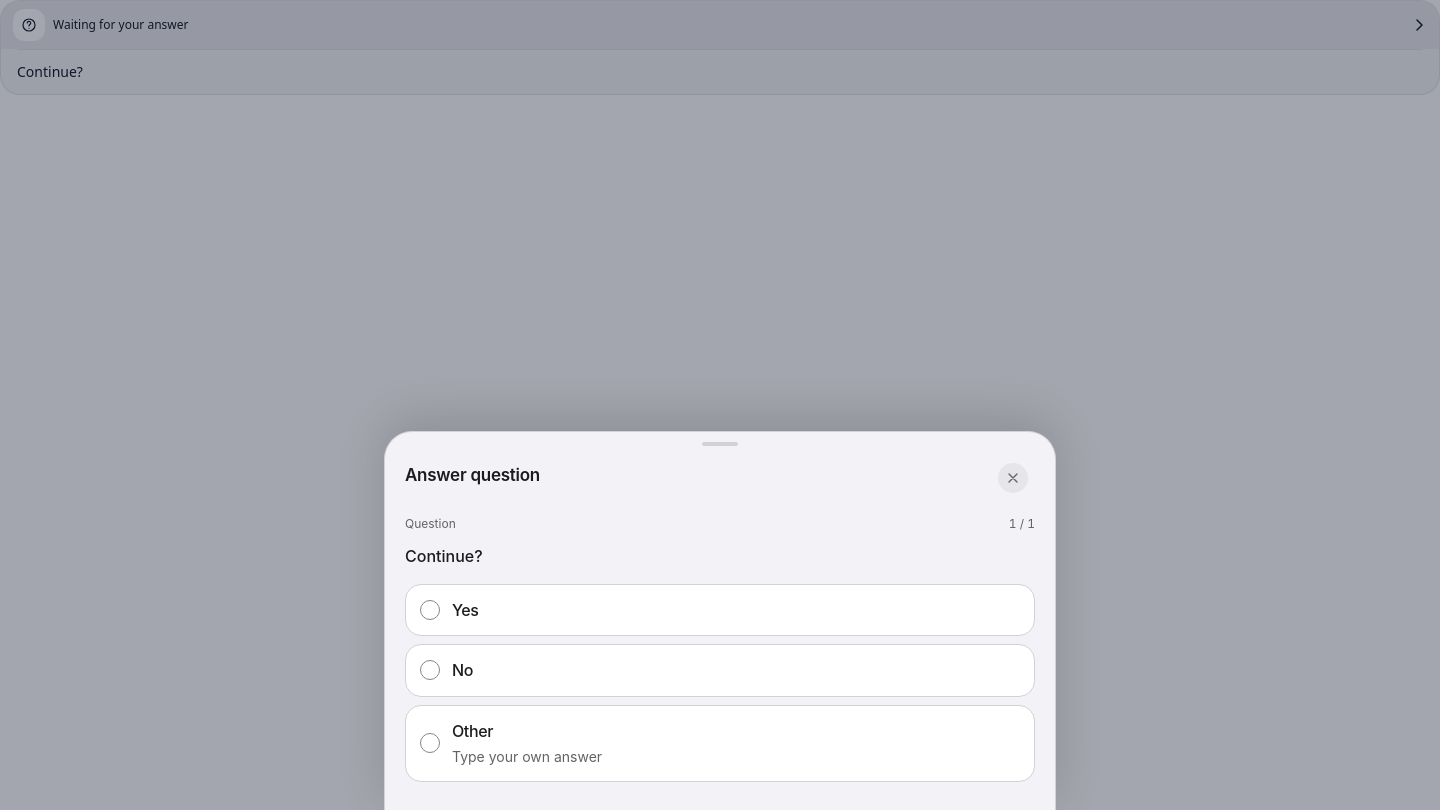
it: native question recovery › closes a stale question when the server says another client already resolved it
The width and height of the screenshot is (1440, 810).
Click the radio button labelled "Yes" at point(430, 610), box [405,584,1035,636]
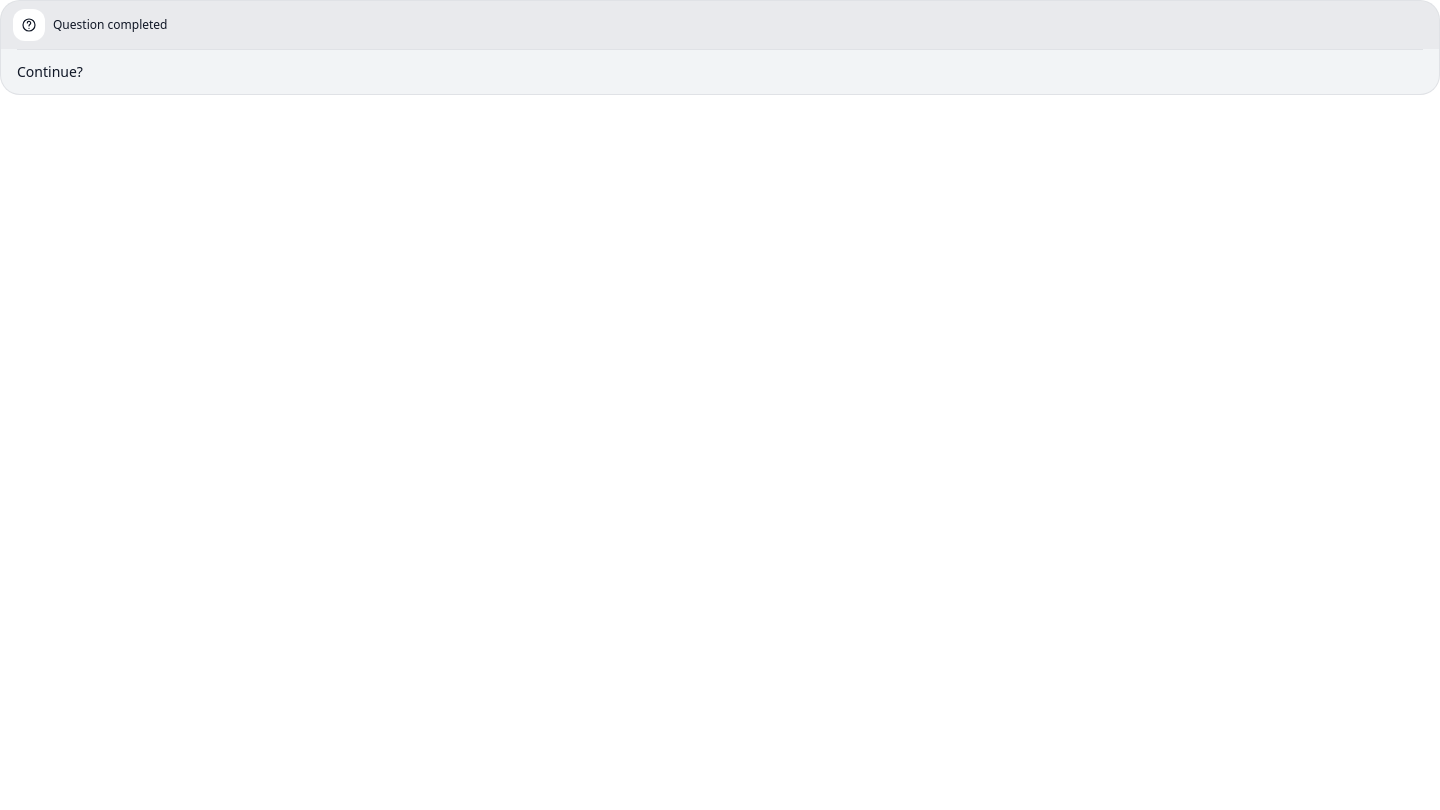
Check: the dialog is gone
